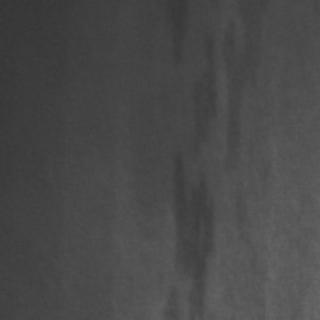inclusion: (164, 17, 216, 316), (221, 0, 273, 288), (157, 1, 193, 74)
